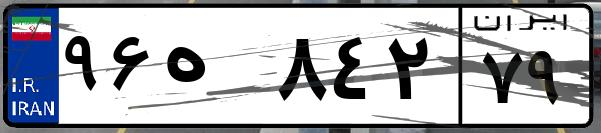2: (385, 28, 445, 110)
4: (330, 28, 385, 110)
6: (110, 28, 158, 98)
7: (475, 38, 525, 113)
8: (270, 28, 330, 110)
9: (57, 26, 110, 100), (525, 38, 570, 115)
ه: (158, 20, 270, 120)
